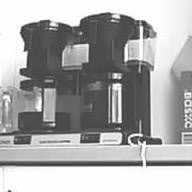not empty coffee: (13, 74, 74, 134), (78, 69, 137, 131)
